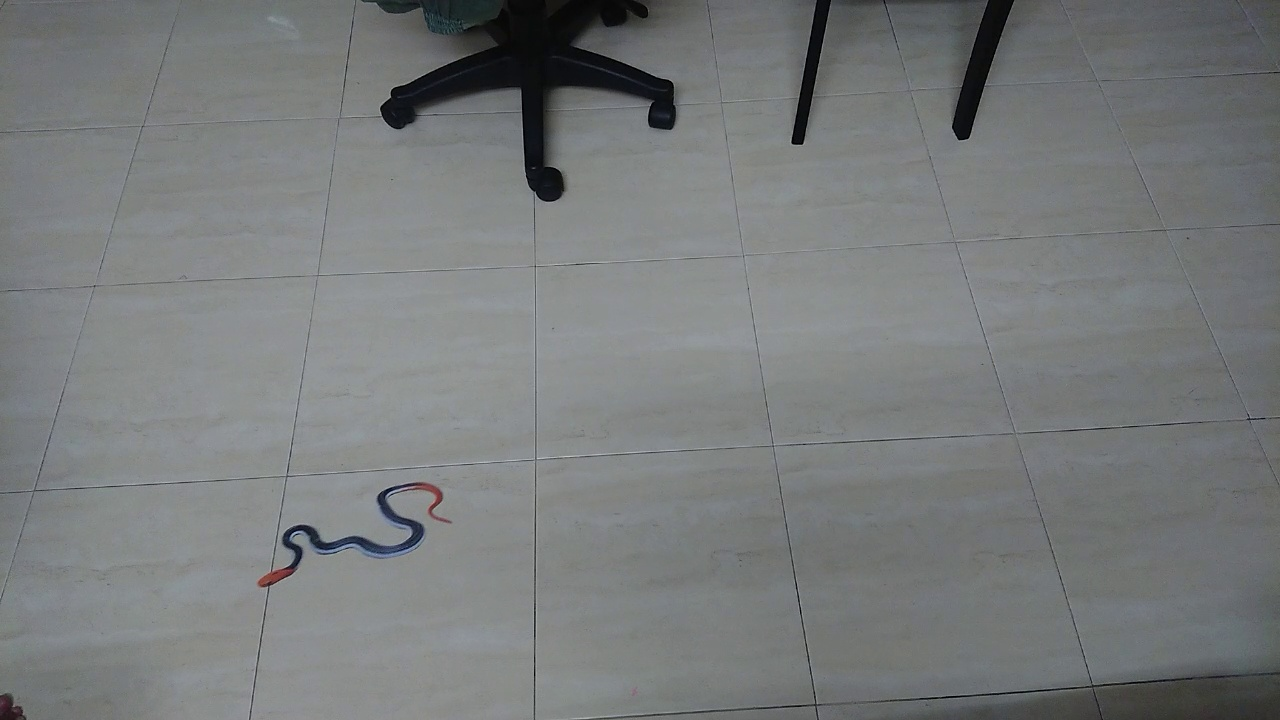snake: (243, 470, 463, 600)
